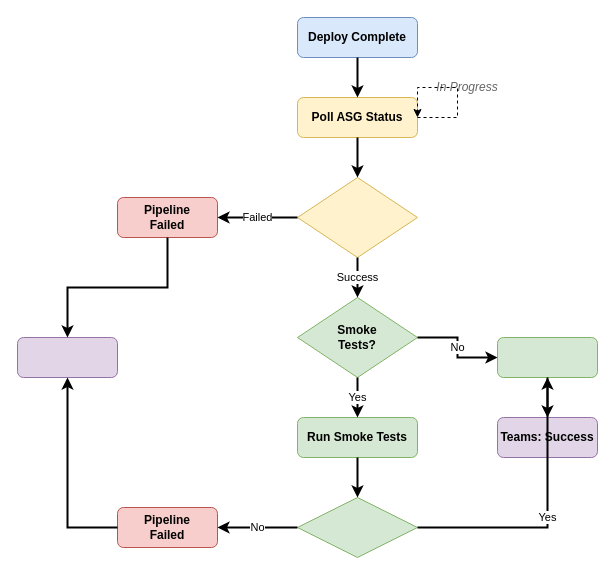
Image size: 615x575. Some labels were removed from this diagram. Each missing label, with the box of its shape:
ASG Status?: (296, 176, 418, 258)
Pass?: (296, 496, 418, 558)
Pipeline Success: (496, 336, 598, 378)
Teams: Failed: (16, 336, 118, 378)
